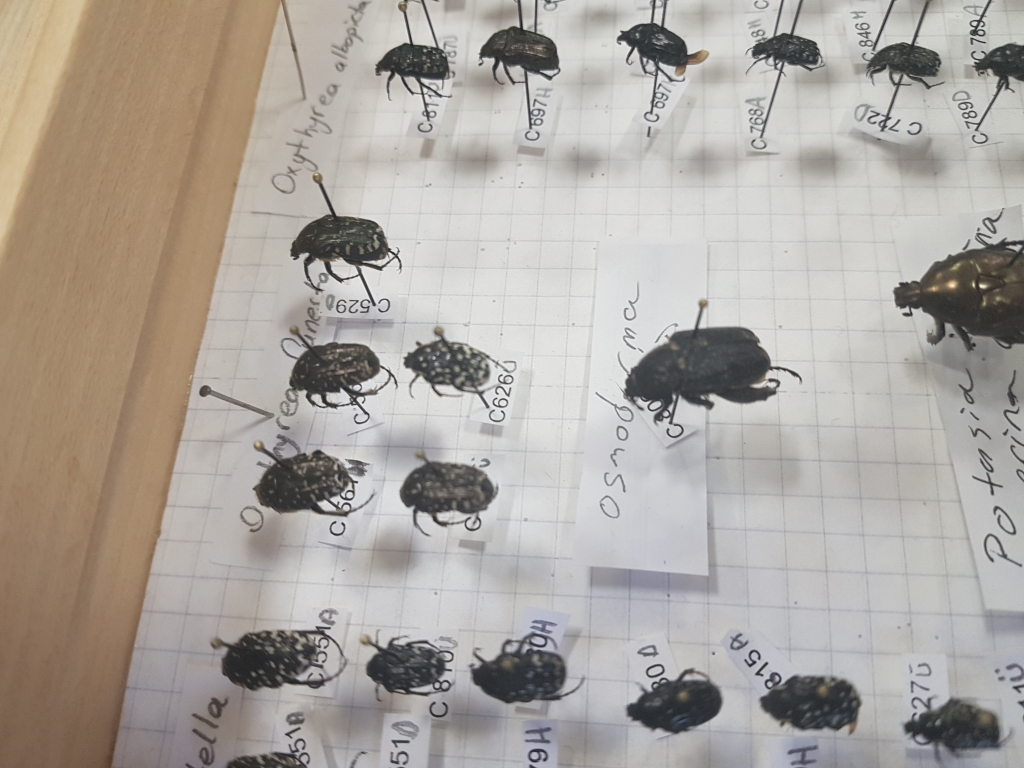Oxythyrea_funesta: (288, 211, 406, 279), (256, 445, 359, 515)
